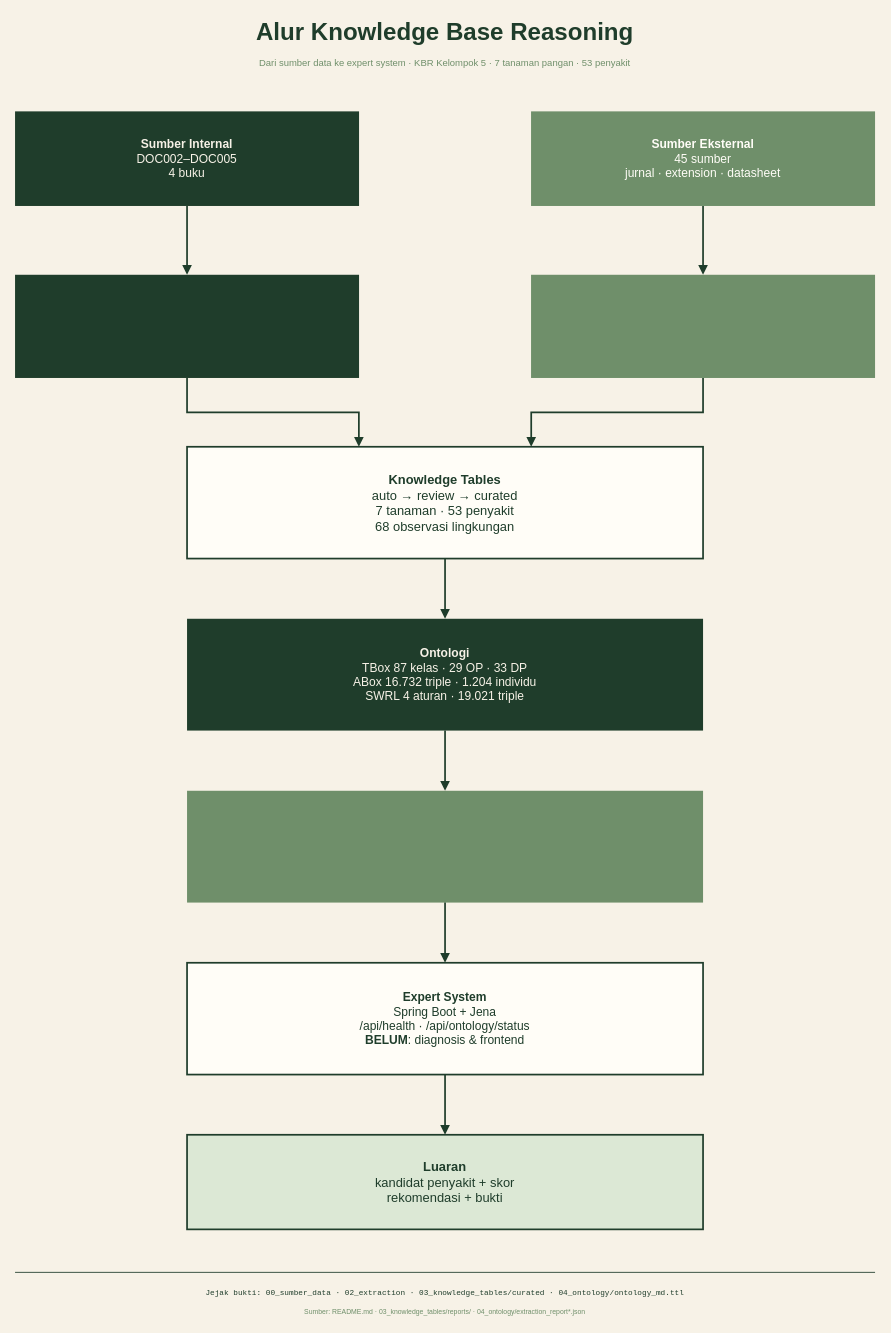
Some shapes in this 891 by 1333 pixel diagram are drawn without their labels. The centre of each missing label's shape, as x and y in pixels:
"Ekstraksi Internal LlamaParse cost_effective · agentic quality gate" goes at point 187,326.
"Reasoning SWRL R1–R4 Pellet / HermiT kandidat + rekomendasi" goes at point 445,846.
"Registry & Bukti source_registry evidence_cards kutipan + locator" goes at point 703,326.
